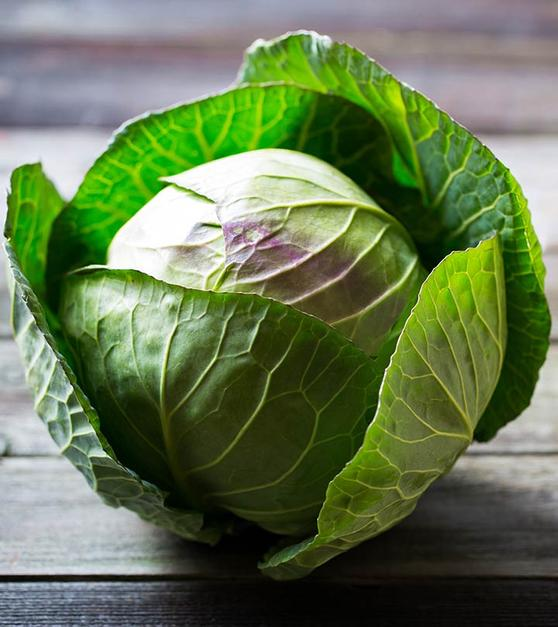cabbage: (11, 32, 555, 586)
